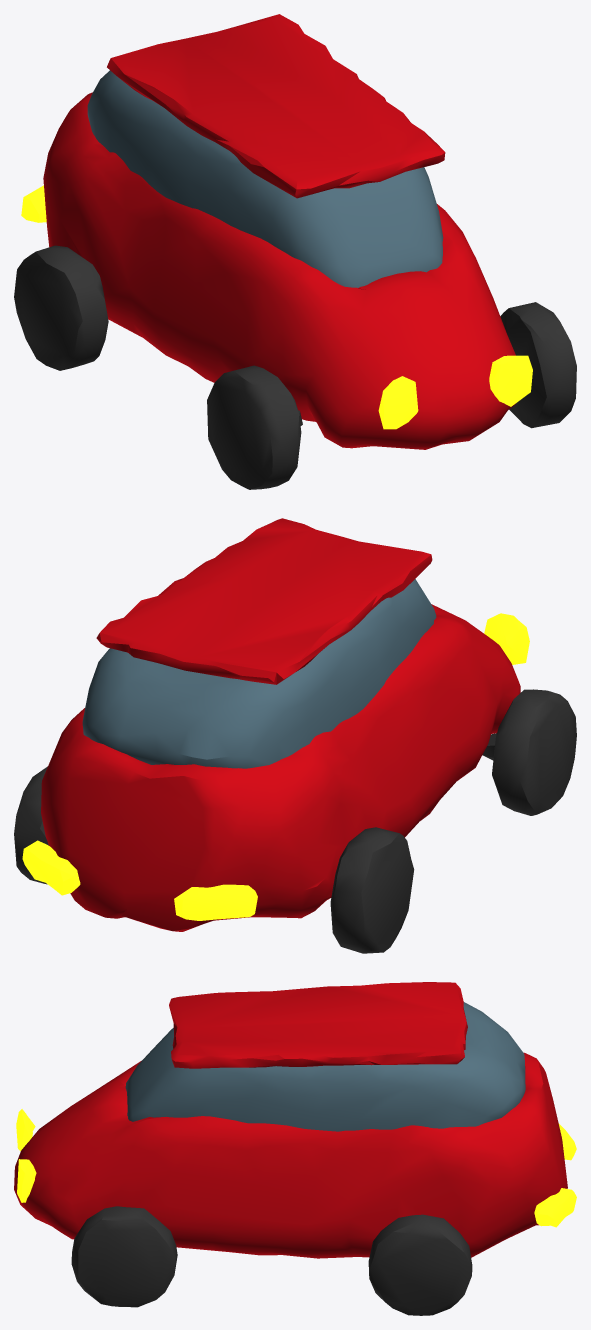
Rendered from broomtinycar.fbx.
3 renders of one model, top to bottom at view 1: azimuth 30°, elevation 25°; view 2: azimuth 150°, elevation 25°; view 3: azimuth 270°, elevation 25°, orthographic. The views are drawn at different scales.
Visible parts, largest first — view 1: Layer_8; view 2: Layer_8; view 3: Layer_8.
Part boxes in pixels (x1,y1,x2,y2): Layer_8: (14,14,576,489); Layer_8: (14,518,576,953); Layer_8: (14,982,576,1315).
Size of the model in its own units: 192 by 148 by 321.
